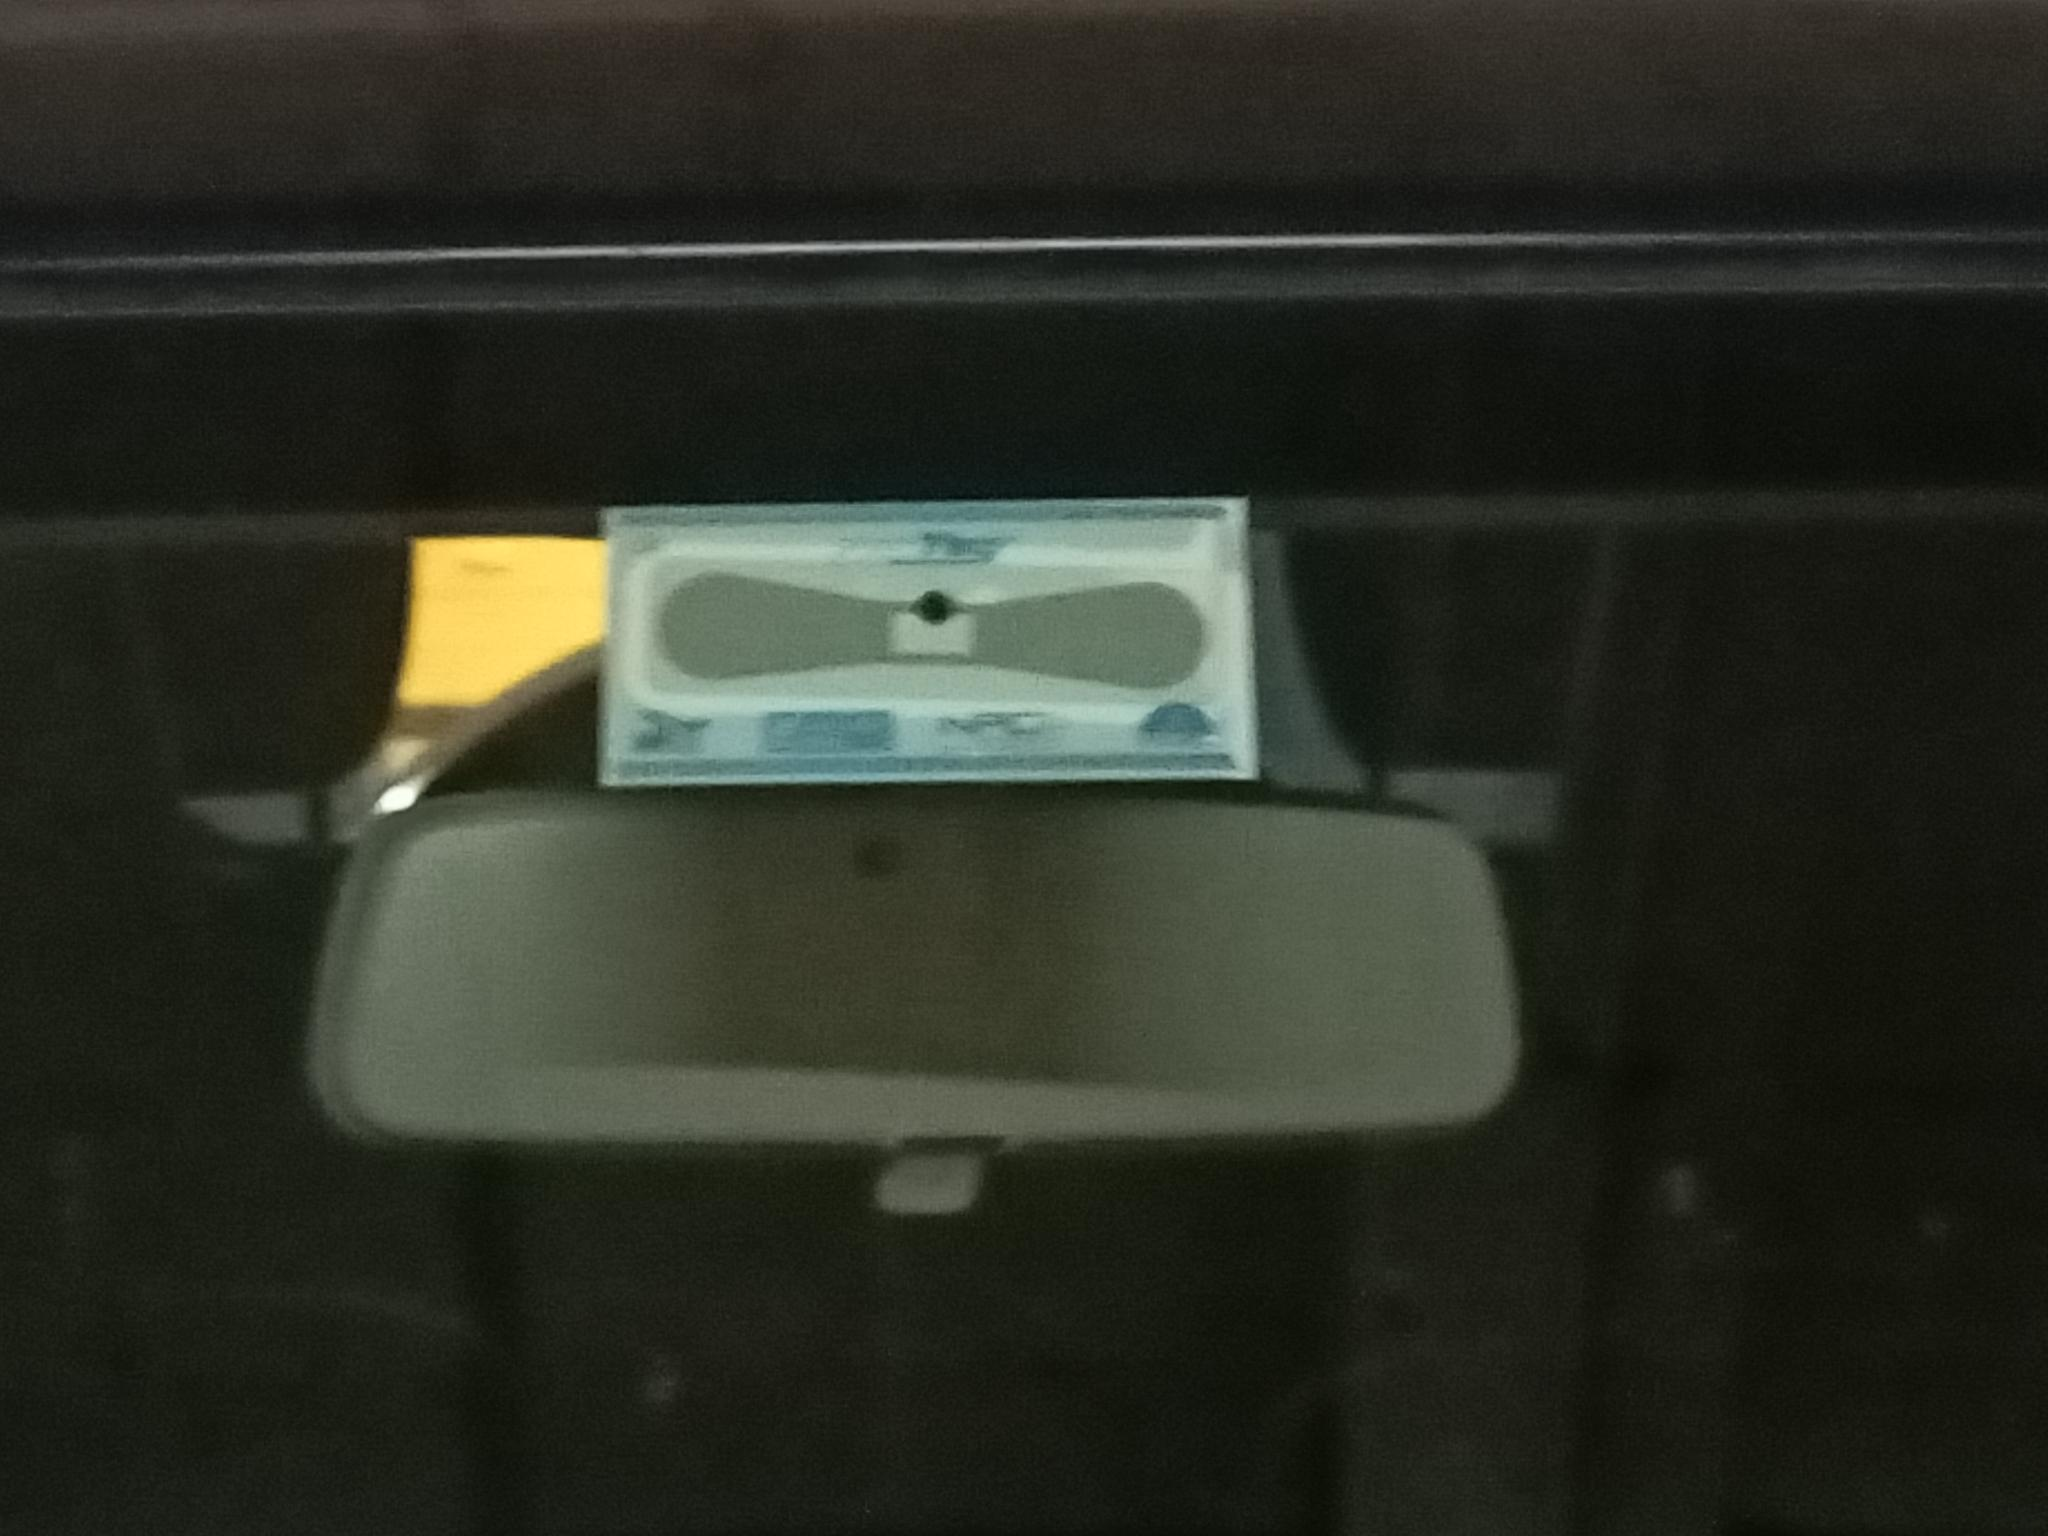FastTag: (556, 442, 1321, 812)
